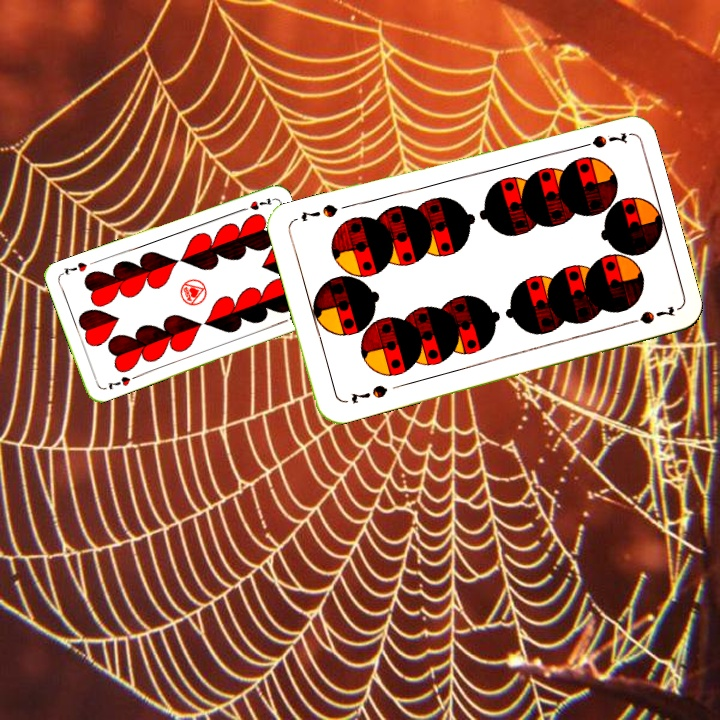H7: (236, 194, 275, 214), (104, 372, 133, 392)
S7: (571, 128, 630, 152), (347, 381, 390, 406)
